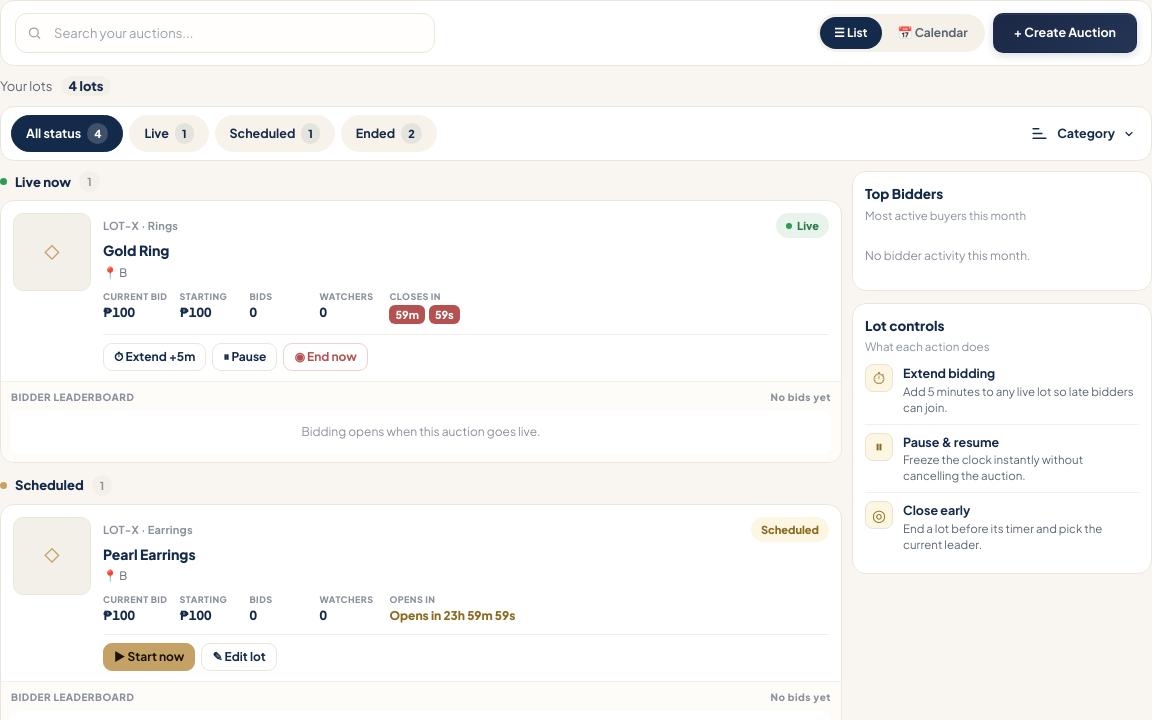
Test: dropdown opens with real categories and counts; closes on outside and Escape
The width and height of the screenshot is (1152, 720).
Check: the text "Gold Ring" is shown, box [103, 241, 169, 259]
Click the button with class "mauc-cattrigger": (1083, 134) [1024, 117, 1141, 150]
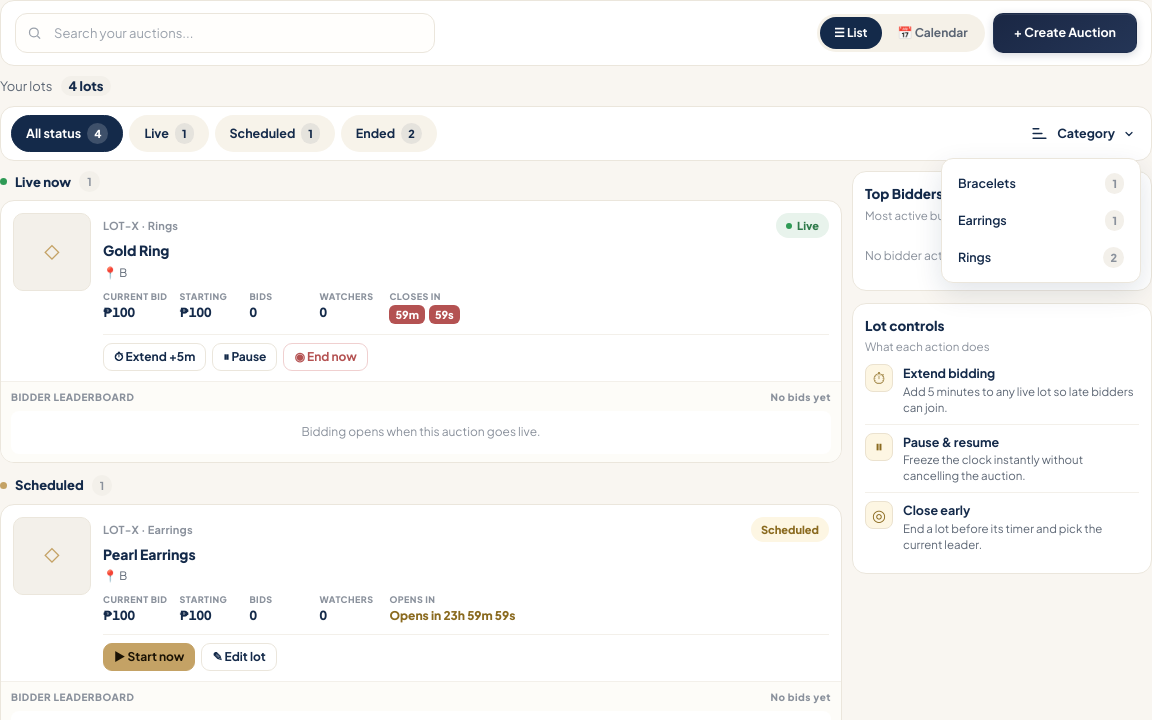
Check: the list is shown, box [941, 158, 1141, 283]
Check: the button "Rings 2" is shown, box [948, 239, 1134, 276]
Check: the button "Bracelets 1" is shown, box [948, 165, 1134, 202]
Press the mouse on the element that starts with "☰ List": (576, 360) [0, 0, 1151, 719]
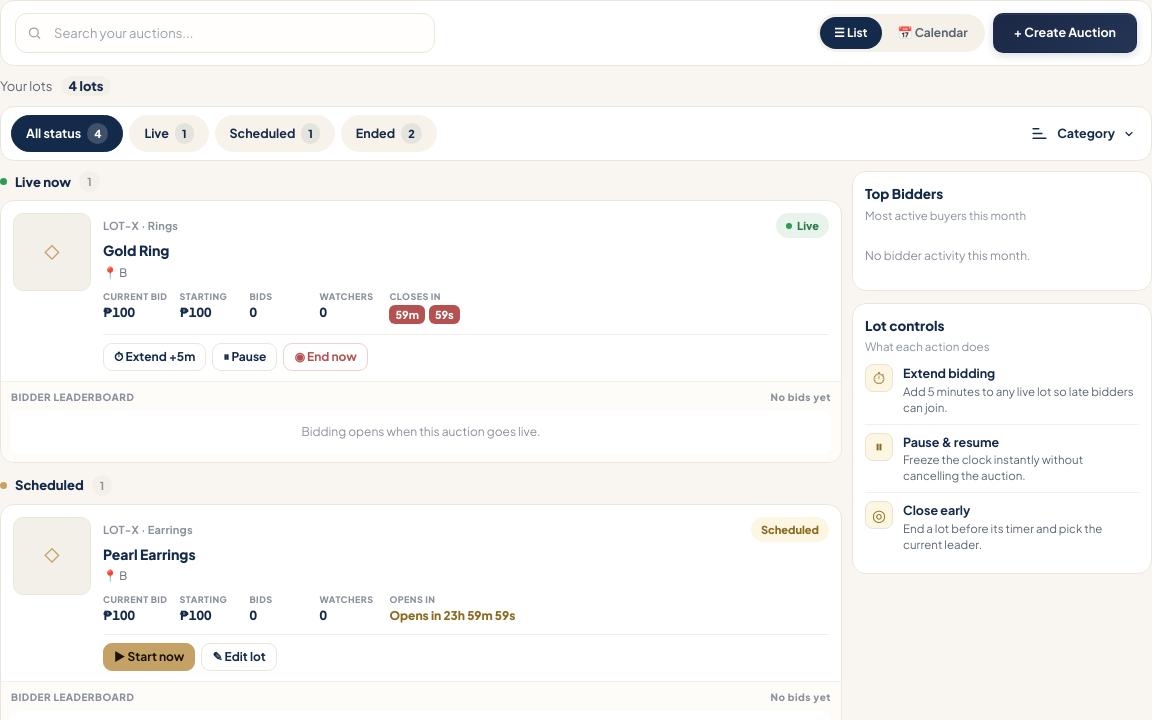
Check: the list is gone
Click the button with class "mauc-cattrigger": (1083, 134) [1024, 117, 1141, 150]
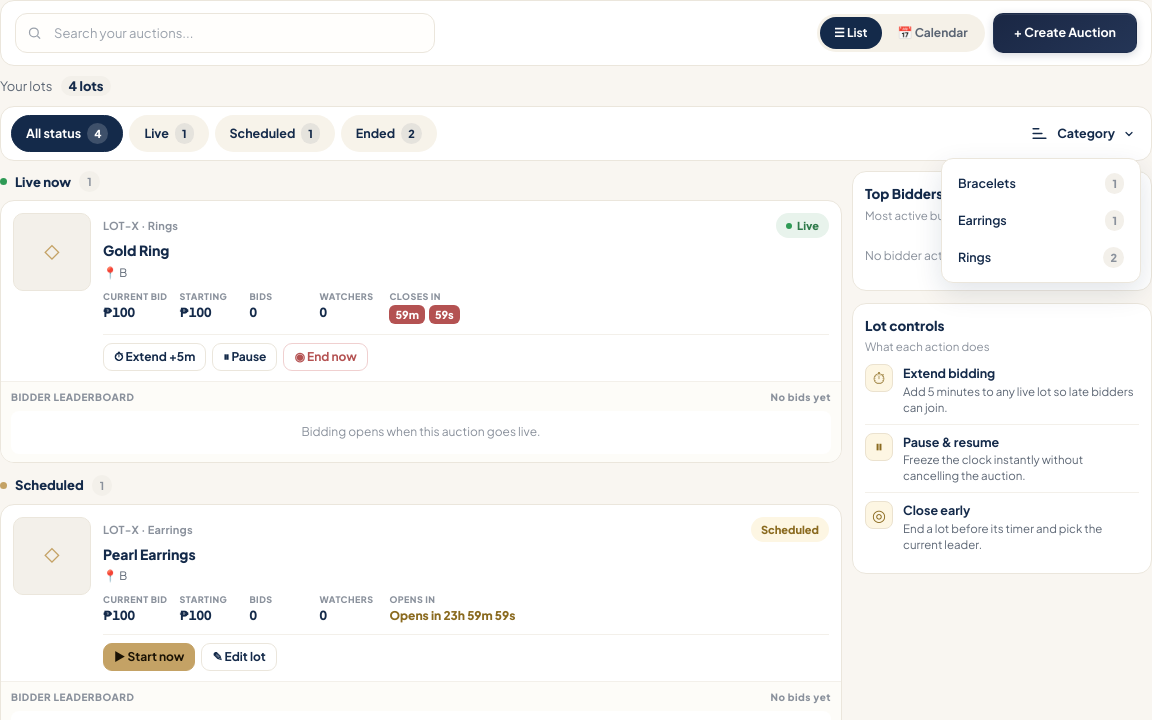
Check: the list is shown, box [941, 158, 1141, 283]
Press Escape
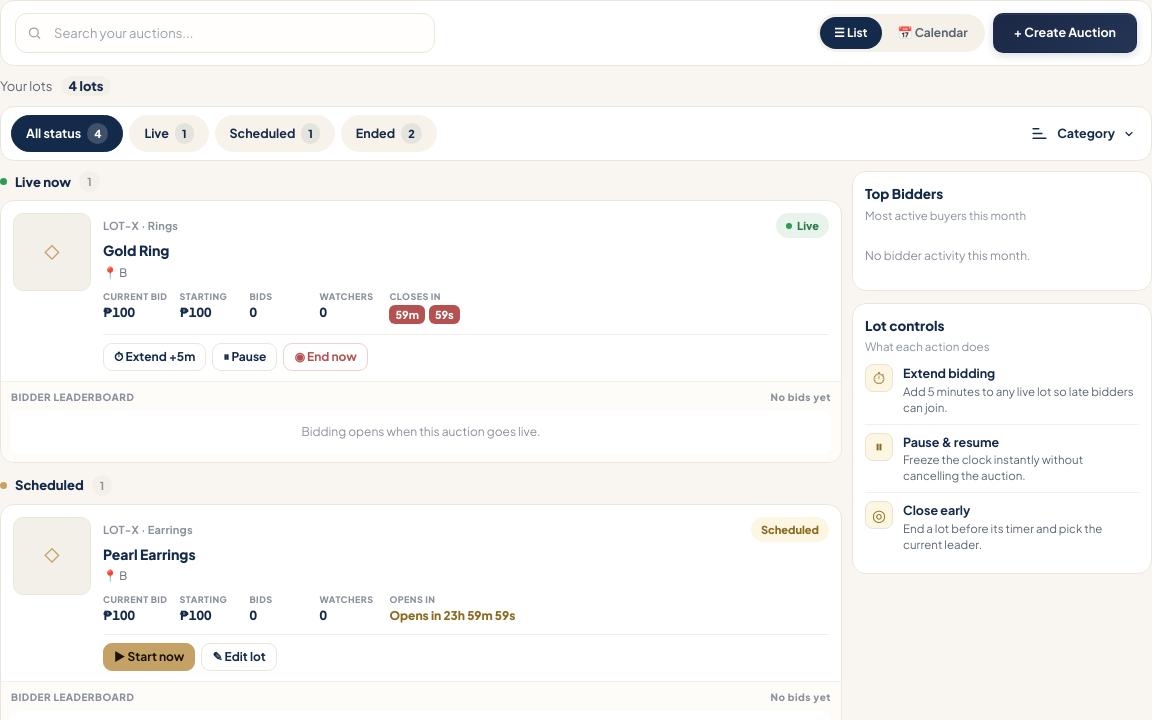
Check: the list is gone
